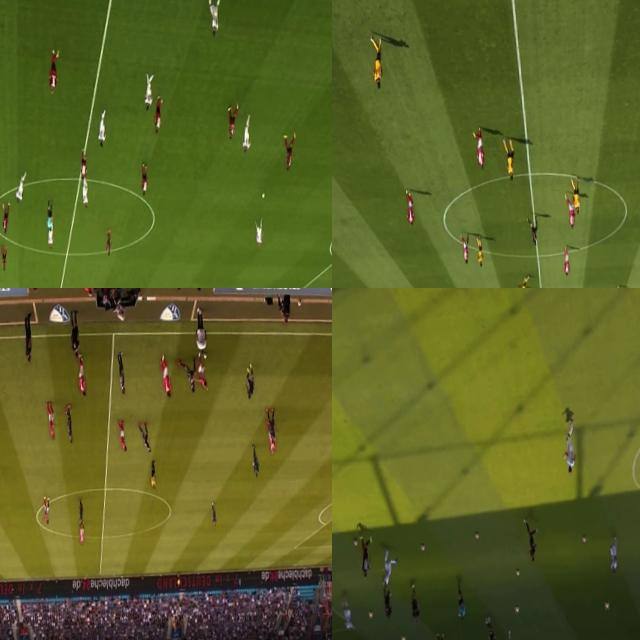ball: (260, 189, 266, 203), (202, 349, 208, 363), (581, 532, 587, 542), (368, 610, 372, 622), (352, 538, 358, 546), (605, 600, 609, 610), (422, 542, 426, 552), (515, 570, 519, 576), (475, 532, 478, 540), (400, 634, 404, 640), (514, 607, 518, 612)
player: (368, 29, 382, 90), (562, 418, 574, 474), (137, 419, 154, 456), (456, 226, 472, 265), (114, 352, 128, 392), (381, 552, 396, 588), (46, 50, 58, 94), (75, 353, 87, 397), (474, 131, 486, 171), (340, 592, 352, 632), (524, 521, 536, 559), (182, 359, 195, 394), (194, 355, 207, 389), (504, 137, 514, 181), (360, 534, 370, 578), (284, 136, 296, 172), (570, 176, 582, 212), (44, 406, 56, 442), (209, 0, 219, 40), (241, 112, 251, 152), (160, 358, 170, 398), (14, 168, 25, 204), (143, 74, 154, 110), (243, 364, 254, 400), (249, 445, 260, 481), (409, 580, 418, 622), (97, 107, 106, 147), (406, 190, 416, 226), (65, 406, 74, 446), (118, 418, 128, 453), (226, 107, 236, 141), (140, 162, 150, 196), (608, 540, 618, 574), (253, 218, 264, 248), (382, 582, 390, 622), (484, 614, 496, 640), (154, 95, 162, 133), (566, 194, 574, 230), (80, 180, 90, 208), (476, 234, 484, 268), (207, 500, 218, 524), (1, 198, 8, 235), (266, 406, 274, 438), (267, 422, 276, 450), (81, 148, 88, 180), (44, 498, 52, 524), (78, 520, 86, 546), (0, 246, 7, 274), (47, 224, 54, 252), (562, 251, 570, 275), (105, 230, 112, 256), (77, 497, 84, 522), (518, 274, 529, 288), (505, 627, 514, 640), (514, 281, 522, 288)
